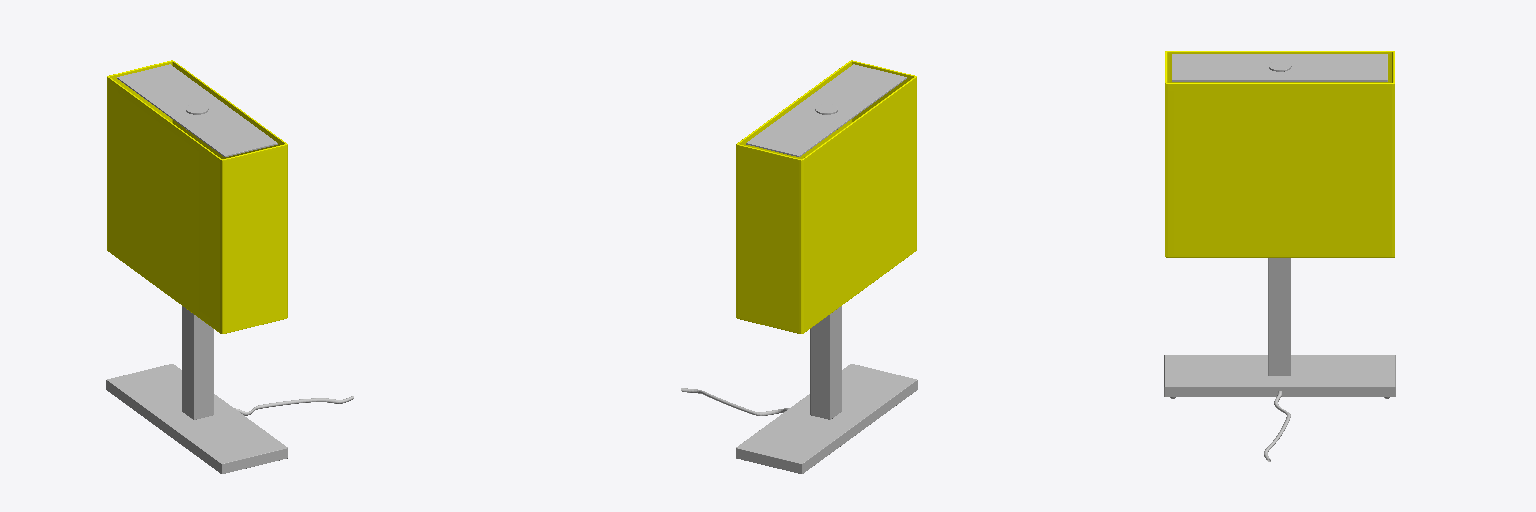
3 renders of one model, left to right at view 1: azimuth 30°, elevation 25°; view 2: azimuth 150°, elevation 25°; view 3: azimuth 270°, elevation 25°, orthographic.
Parts seen in each view (by area): view 1: fabric, metal, glass, plastic; view 2: fabric, metal, glass, plastic; view 3: fabric, metal, glass, plastic.
Boxes of the visible parts, x1=… form: fabric: x1=107, y1=60, x2=287, y2=333; metal: x1=106, y1=306, x2=287, y2=473; glass: x1=117, y1=64, x2=277, y2=156; plastic: x1=186, y1=104, x2=353, y2=460; fabric: x1=736, y1=60, x2=916, y2=333; metal: x1=736, y1=306, x2=917, y2=473; glass: x1=746, y1=64, x2=906, y2=156; plastic: x1=681, y1=104, x2=837, y2=460; fabric: x1=1165, y1=51, x2=1394, y2=257; metal: x1=1164, y1=258, x2=1395, y2=396; glass: x1=1172, y1=54, x2=1387, y2=81; plastic: x1=1170, y1=61, x2=1389, y2=461.
Bounding box in the file's own units: 0.2758 × 0.4638 × 0.3.